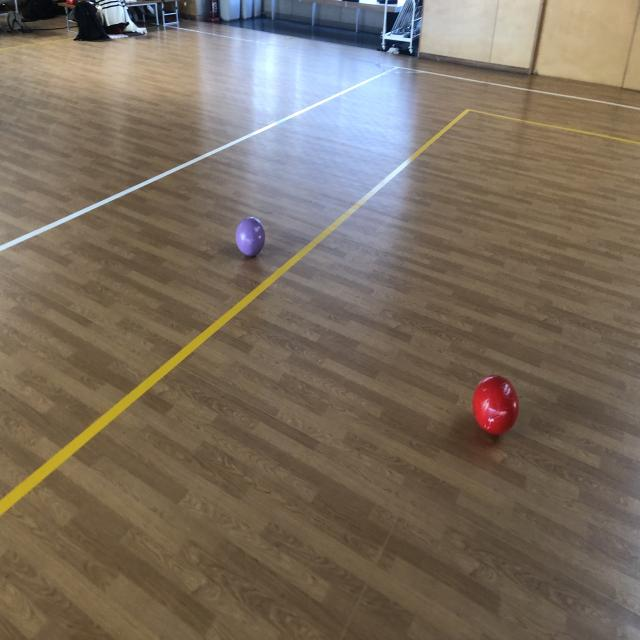purple_ball: (234, 216, 266, 258)
red_ball: (473, 373, 519, 436)
